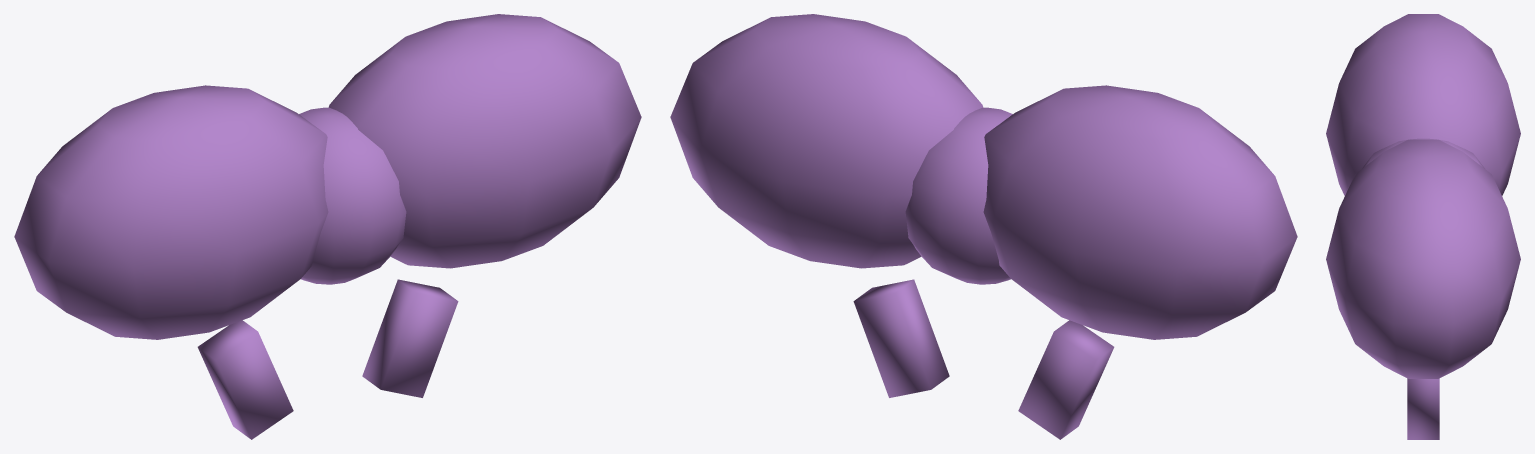
File: opera_candymaker_candy_6.glb
The picture shows the model from 3 angles, left to right: view 1: azimuth 30°, elevation 25°; view 2: azimuth 150°, elevation 25°; view 3: azimuth 270°, elevation 25°; orthographic projection. The views are drawn at different scales.
Parts seen in each view (by area): view 1: VisualMesh.007; view 2: VisualMesh.007; view 3: VisualMesh.007.
Boxes of the visible parts, left/top/right/bottom form: VisualMesh.007: left=14, top=14, right=641, bottom=439; VisualMesh.007: left=670, top=14, right=1297, bottom=439; VisualMesh.007: left=1326, top=14, right=1520, bottom=439.
Size of the model in its own units: 3.24 by 1.83 by 1.05.
